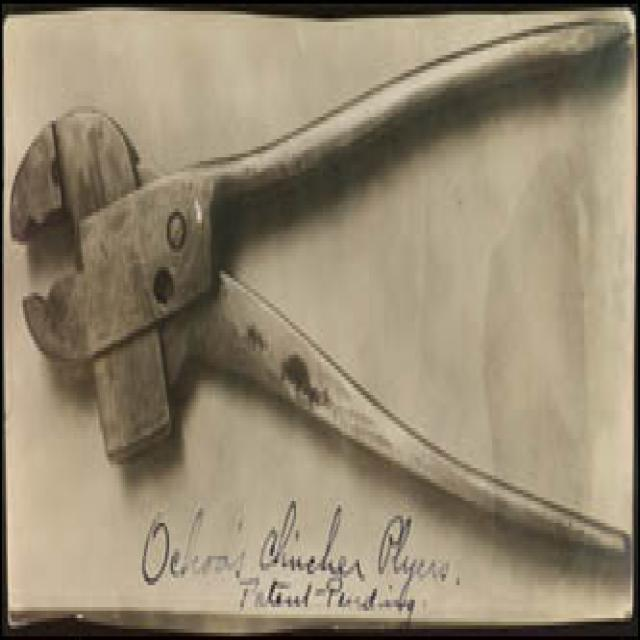wrench: (6, 16, 628, 573)
